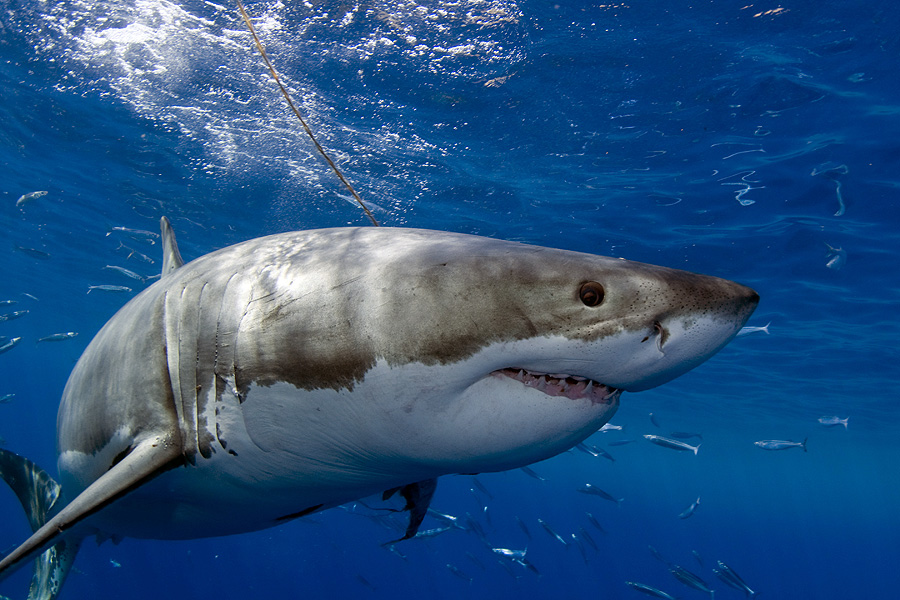Carcharodon_carcharias: (18, 208, 751, 576)
